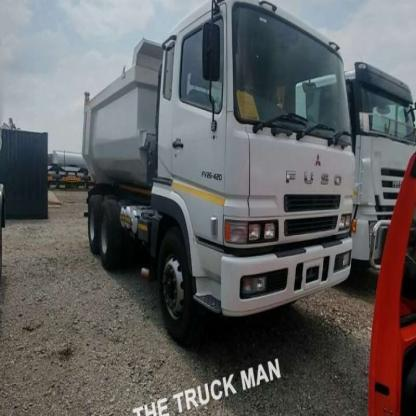dump_truck: (71, 5, 357, 342)
